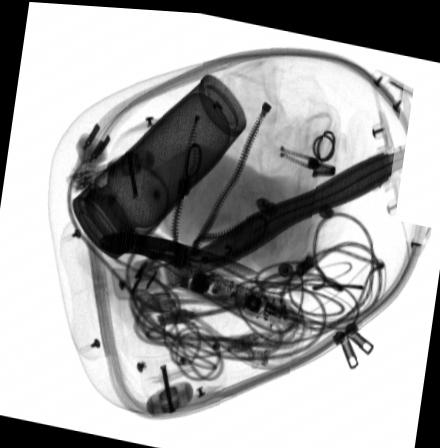Knife: (100, 228, 262, 273)
